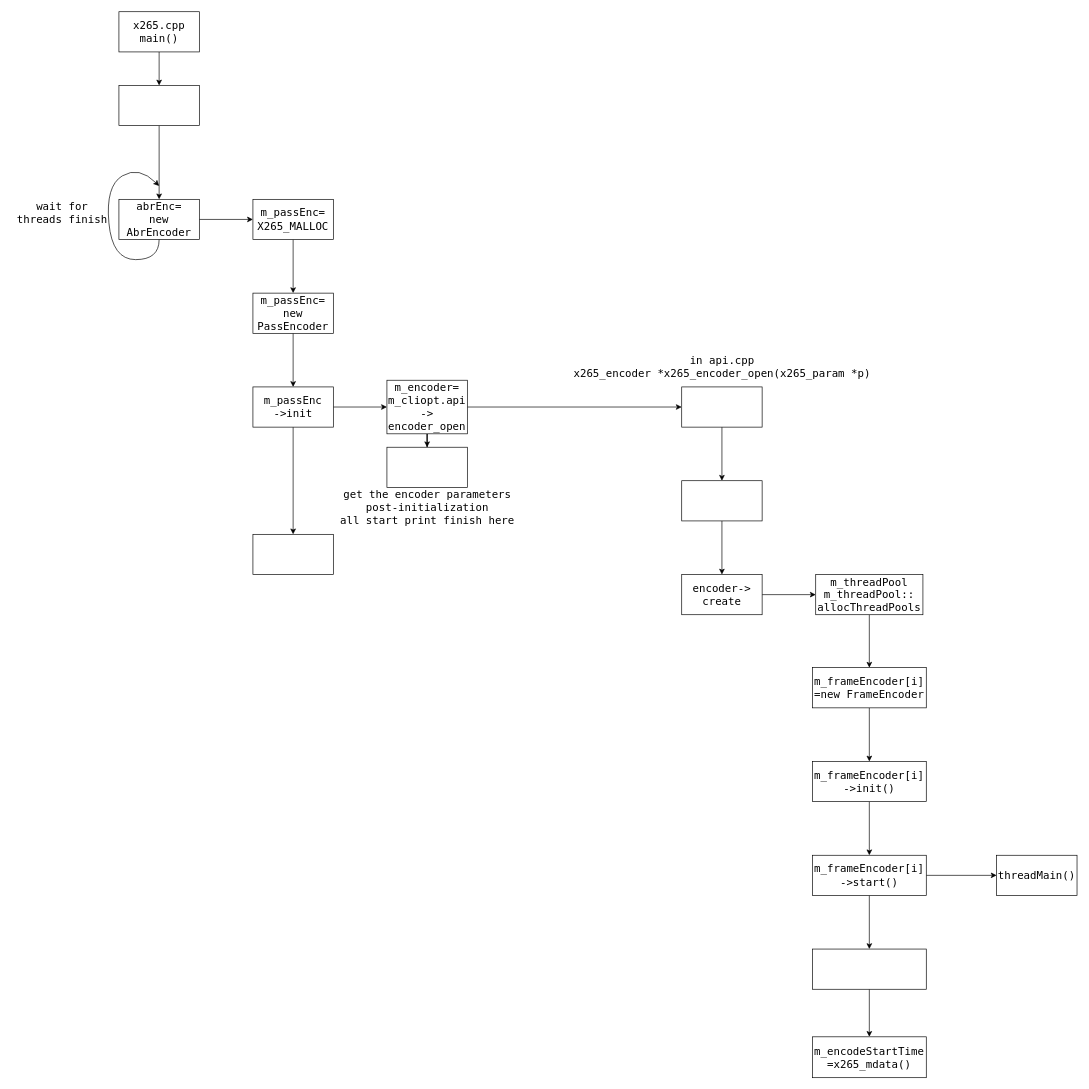
Some shapes in this 1089 by 1089 pixel diagram are drawn without their labels. The centre of each missing label's shape, as x and y in pixels:
"cliopt.parse" goes at point 158,105.
"encoder-> configure" goes at point 721,500.
"encoder= new Encoder" goes at point 721,406.
"m_cliopt.api ->encoder_ parameters" goes at point 426,467.
"m_frameEncoder[i] ->m_done.wait()" goes at point 869,968.
"m_passEnc -> startThreads" goes at point 292,554.
